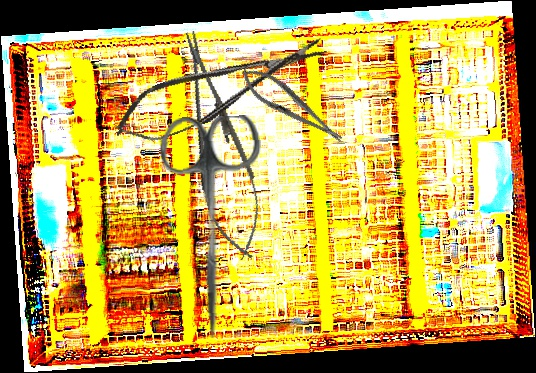Iris Scissors: (157, 114, 268, 340)
Micro Scissor: (105, 25, 337, 154)
Needle Holder: (163, 24, 275, 266), (234, 59, 350, 153)
